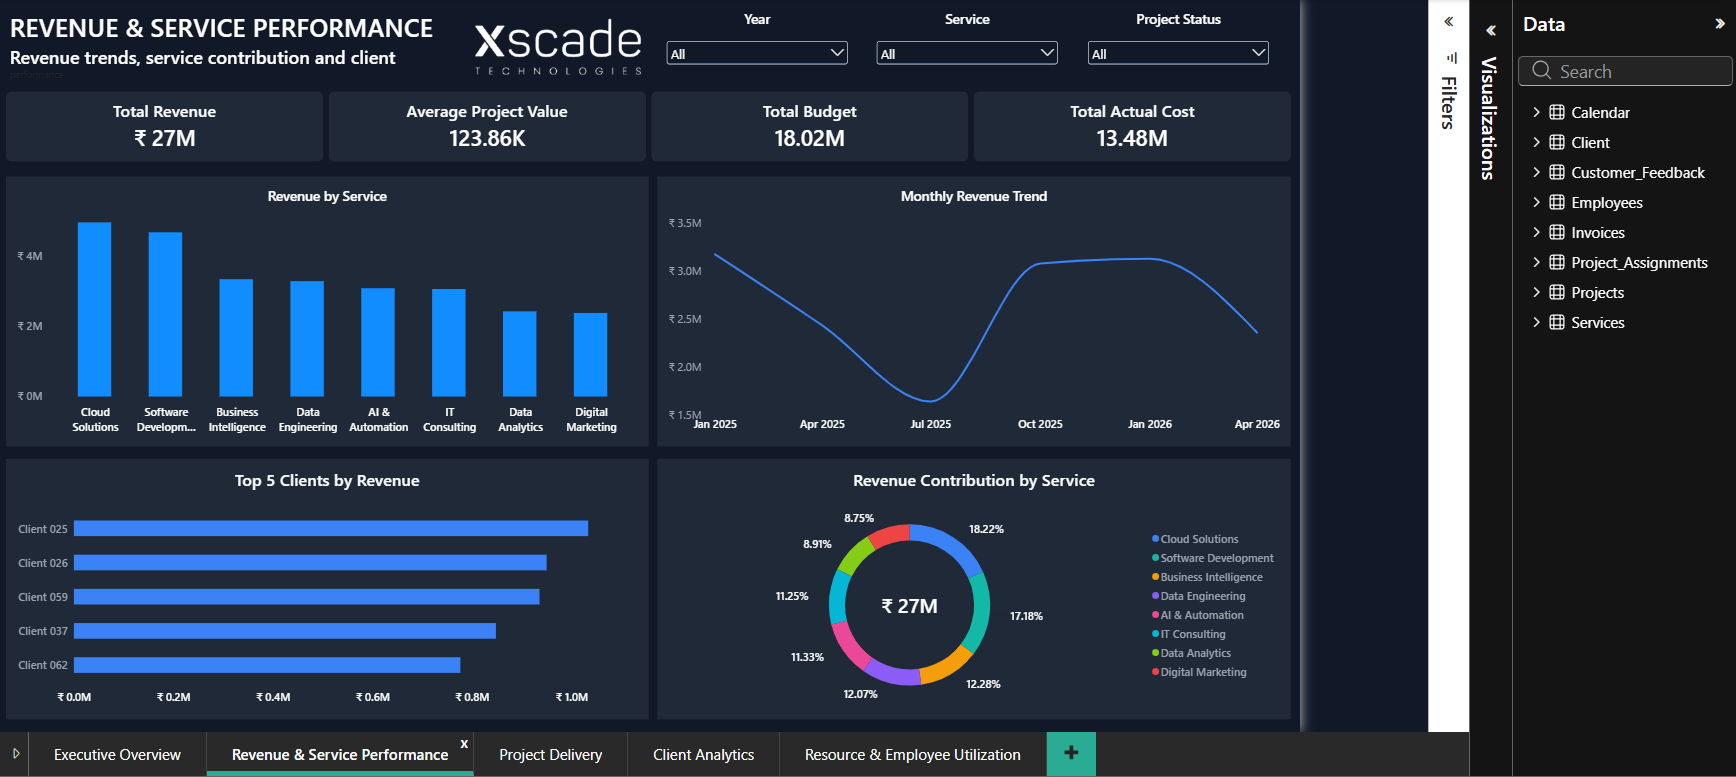

This screenshot's page, from the dashboard's own definition file:
{"tool":"powerbi","page":{"name":"Revenue & Service Performance","canvas":[1920,1080],"ordinal":1},"visuals":[{"type":"textbox","box":[20.2,16.6,646,66.3],"z":0},{"type":"textbox","box":[20.2,66.3,607.4,55.2],"z":1000},{"type":"cardVisual","fields":{"Data":["Services.Total Revenue","Services.Average Project Value","Services.Total Budget","Services.Total Actual Cost"]},"box":[14.7,135.5,1892,103.4],"z":2000},{"type":"clusteredColumnChart","title":"Revenue by Service","fields":{"Category":["Services.ServiceName"],"Y":["Services.Total Revenue"]},"box":[14.7,261.4,946,397.5],"z":3000},{"type":"lineChart","title":"Monthly Revenue Trend","fields":{"Category":["Calendar.Date.Variation.Date Hierarchy.Year","Calendar.Date.Variation.Date Hierarchy.Quarter","Calendar.Date.Variation.Date Hierarchy.Month","Calendar.Date.Variation.Date Hierarchy.Day"],"Y":["Services.Total Revenue"]},"box":[973.6,261.4,933.1,397.5],"z":4000},{"type":"clusteredBarChart","title":"Top 5 Clients by Revenue","fields":{"Category":["Client.ClientName"],"Y":["Services.Total Revenue"]},"box":[14.7,677.3,946,382.8],"z":5000},{"type":"donutChart","title":"Revenue Contribution by Service","fields":{"Category":["Services.ServiceName"],"Y":["Services.Total Revenue"]},"box":[974,677,933,383],"z":6000},{"type":"slicer","title":"Year","fields":{"Values":["Calendar.Year"]},"box":[982.8,14.7,276.1,101.2],"z":7000},{"type":"slicer","title":"Service","fields":{"Values":["Services.ServiceName"]},"box":[1292,14.7,276.1,101.2],"z":8000},{"type":"slicer","title":"Project Status","fields":{"Values":["Projects.Status"]},"box":[1603.1,14.7,276.1,101.2],"z":9000},{"type":"image","box":[605.5,0,456.4,116],"z":9001}]}

Visuals, with their boxes on the page's 1920x1080 design canvas (x1, y1, x2, y2). These are canvas units, not pixel positions in the 1736x777 screenshot, which may show the page scaled, cropped or inside an application window:
textbox: locate(20, 17, 666, 83)
textbox: locate(20, 66, 628, 122)
cardVisual - Services.Total Revenue x Services.Average Project Value: locate(15, 136, 1907, 239)
"Revenue by Service" clusteredColumnChart: locate(15, 261, 961, 659)
"Monthly Revenue Trend" lineChart: locate(974, 261, 1907, 659)
"Top 5 Clients by Revenue" clusteredBarChart: locate(15, 677, 961, 1060)
"Revenue Contribution by Service" donutChart: locate(974, 677, 1907, 1060)
"Year" slicer: locate(983, 15, 1259, 116)
"Service" slicer: locate(1292, 15, 1568, 116)
"Project Status" slicer: locate(1603, 15, 1879, 116)
image: locate(606, 0, 1062, 116)
